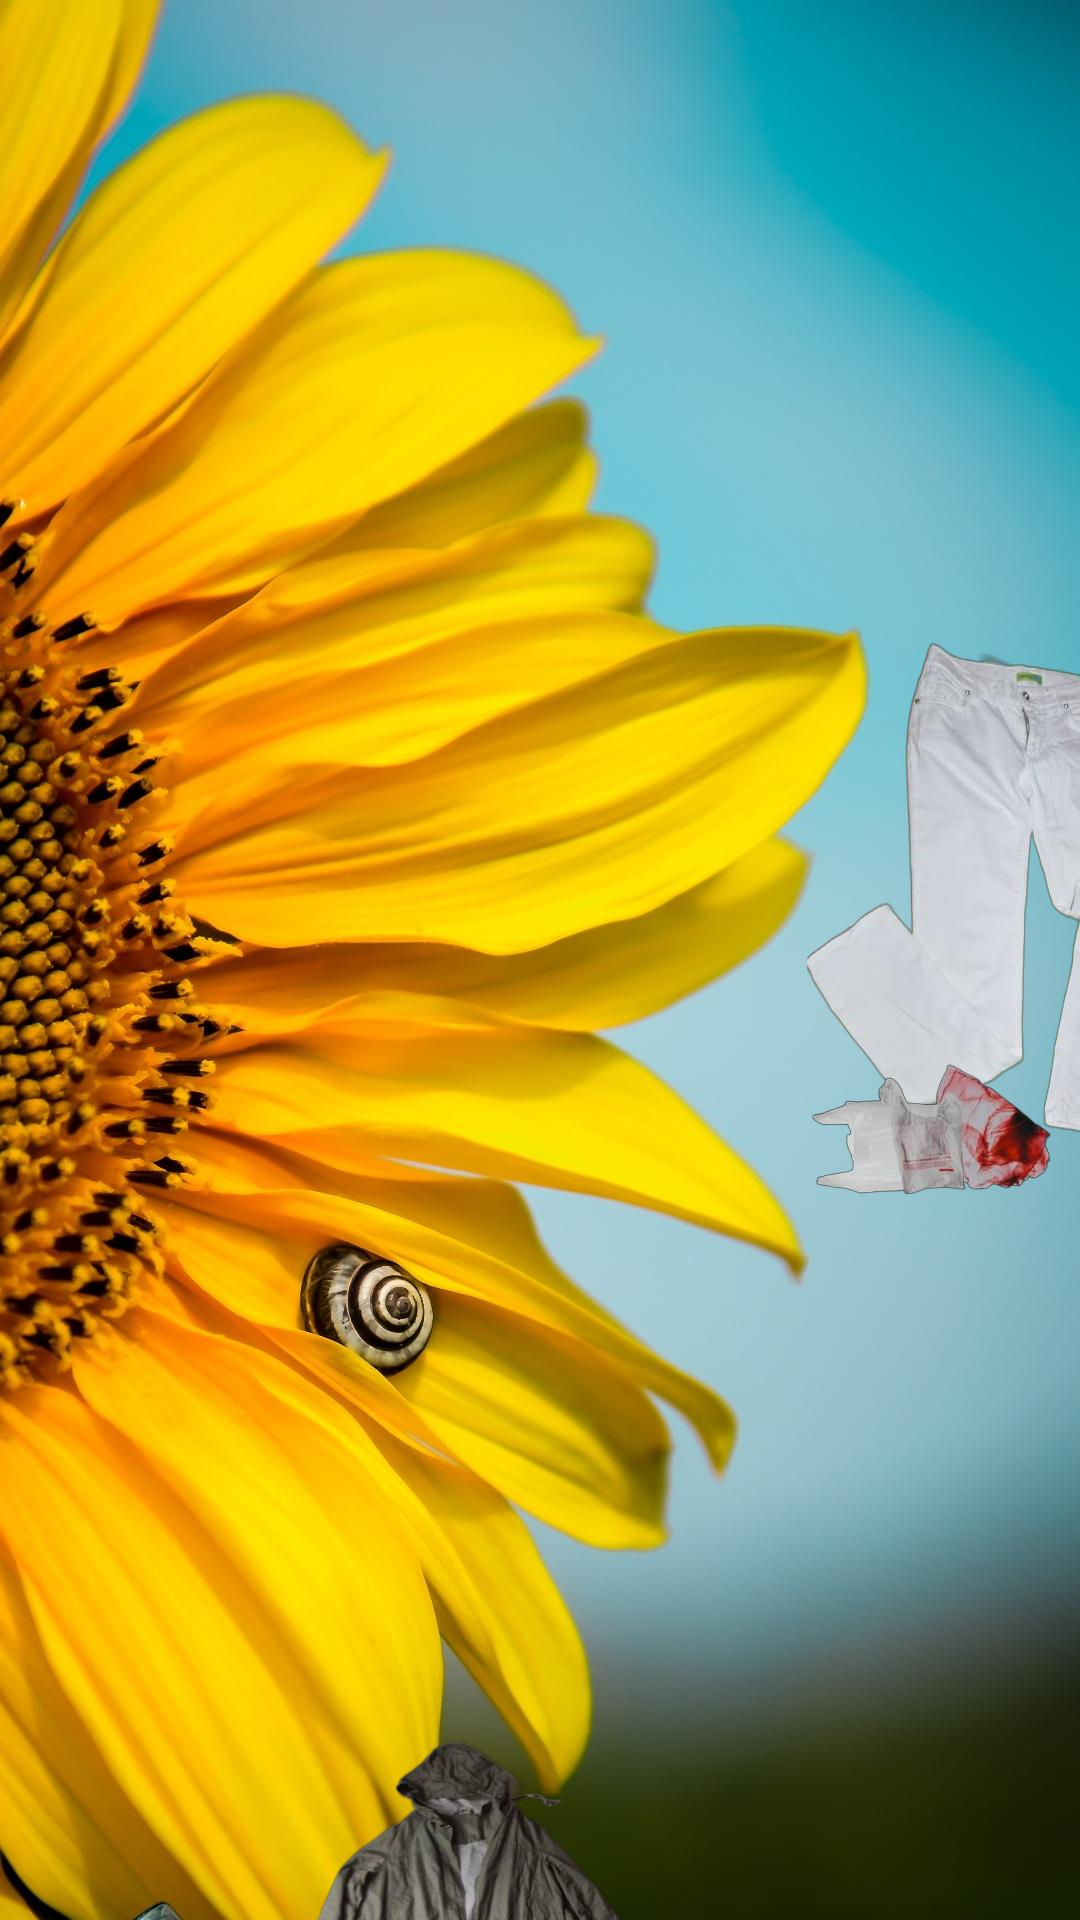clothes: (807, 638, 1080, 1143), (284, 1739, 675, 1920)
glass: (113, 1671, 427, 1920)
plastic-bag: (812, 1063, 1052, 1196)
